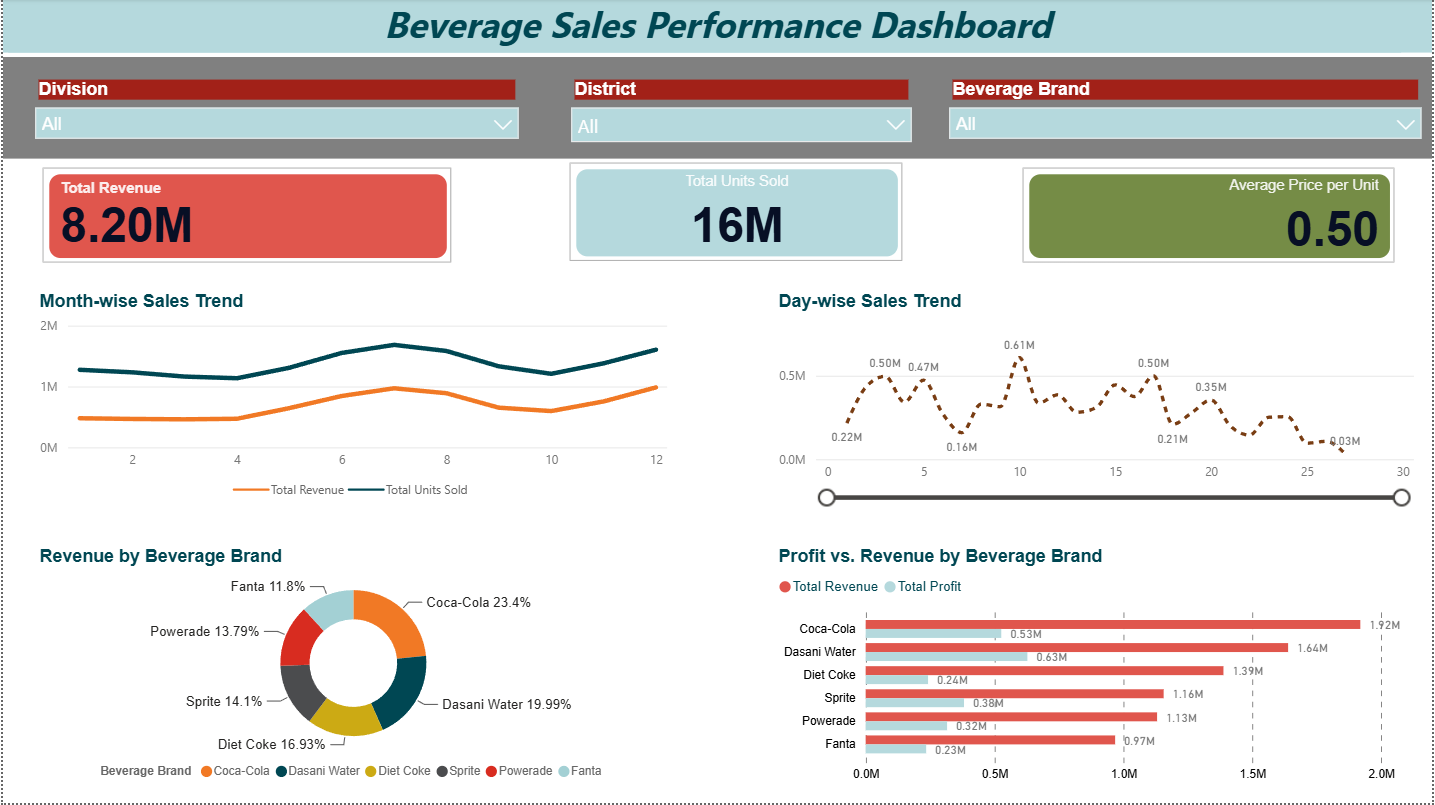

Layout of this report page (visuals, bound fields, positions):
{"tool":"powerbi","page":{"name":"Page 1","canvas":[1280,720],"ordinal":0},"visuals":[{"type":"shape","box":[0,51.8,1280,91.3],"z":0},{"type":"slicer","fields":{"Values":["Data.Division"]},"box":[18.9,67.5,452.8,67.5],"z":1000},{"type":"slicer","fields":{"Values":["Data.District"]},"box":[498.5,67.5,324.7,74.5],"z":2000},{"type":"slicer","fields":{"Values":["Data.Beverage Brand"]},"box":[837.1,67.5,442.9,74.5],"z":3000},{"type":"cardVisual","fields":{"Data":["_Measures.Total Revenue"]},"box":[30,145.7,376.2,95.4],"z":3000,"group":"g1"},{"type":"donutChart","title":"Revenue by Beverage Brand","fields":{"Category":["Data.Beverage Brand"],"Y":["_Measures.Total Revenue"]},"box":[27.8,489.6,572,219.5],"z":4000},{"type":"cardVisual","fields":{"Data":["_Measures.Total Units Sold"]},"box":[501.6,141.6,308.1,98.1],"z":5000,"group":"g1"},{"type":"clusteredBarChart","title":"Profit vs. Revenue by Beverage Brand","fields":{"Category":["Data.Beverage Brand"],"Y":["_Measures.Total Revenue","_Measures.Total Profit"]},"box":[689.2,489.6,578.9,219.5],"z":5000},{"type":"lineChart","title":"Month-wise Sales Trend","fields":{"Category":["Data.Month"],"Y":["_Measures.Total Revenue","_Measures.Total Units Sold"]},"box":[27.8,261.2,572,195.6],"z":6000},{"type":"cardVisual","fields":{"Data":["_Measures.Average Price per Unit"]},"box":[907.9,146.2,343.5,95.4],"z":7000,"group":"g1"},{"type":"lineChart","title":"Day-wise Sales Trend","fields":{"Category":["Dates.Date.Variation.Date Hierarchy.Day"],"Y":["_Measures.Total Revenue"]},"box":[689.2,261.2,578.9,195.6],"z":7000},{"type":"textbox","title":"Beverage Sales Performance Dashboard","box":[0,0,1280,51.8],"z":8000},{"type":"group","id":"g1","title":"Group 1","box":[30,141.6,1221.4,100.1],"z":9000}]}

Visuals, with their boxes in screenshot pixels (x1, y1, x2, y2), scaled from the page's 1280x720 canvas onto the 1435x805 screenshot:
shape: 0/58/1434/160
slicer - Data.Division: 21/75/529/151
slicer - Data.District: 559/75/923/159
slicer - Data.Beverage Brand: 938/75/1434/159
cardVisual - _Measures.Total Revenue: 34/163/455/270
"Revenue by Beverage Brand" donutChart: 31/547/672/793
cardVisual - _Measures.Total Units Sold: 562/158/908/268
"Profit vs. Revenue by Beverage Brand" clusteredBarChart: 773/547/1422/793
"Month-wise Sales Trend" lineChart: 31/292/672/511
cardVisual - _Measures.Average Price per Unit: 1018/163/1403/270
"Day-wise Sales Trend" lineChart: 773/292/1422/511
"Beverage Sales Performance Dashboard" textbox: 0/0/1434/58
"Group 1" group: 34/158/1403/270
